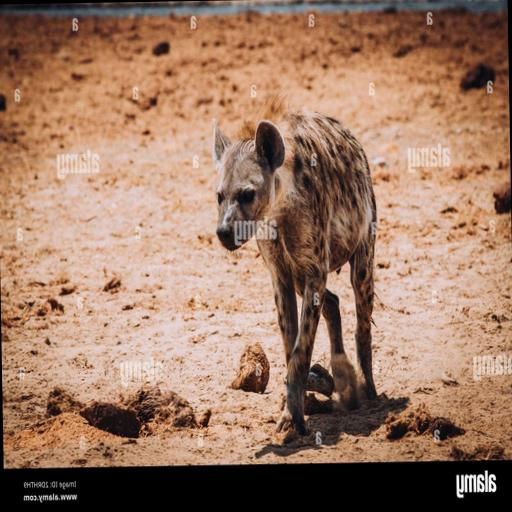hyenas: (65, 81, 397, 457)
